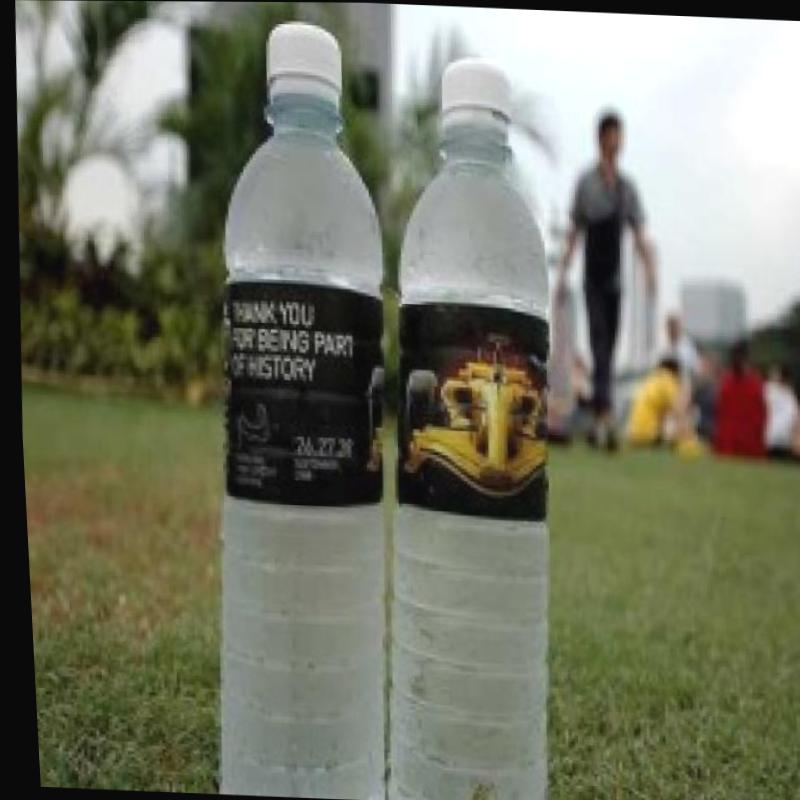botella: (180, 13, 408, 800), (348, 51, 574, 800)
